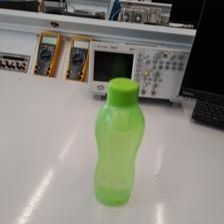bottle: (89, 75, 144, 205)
